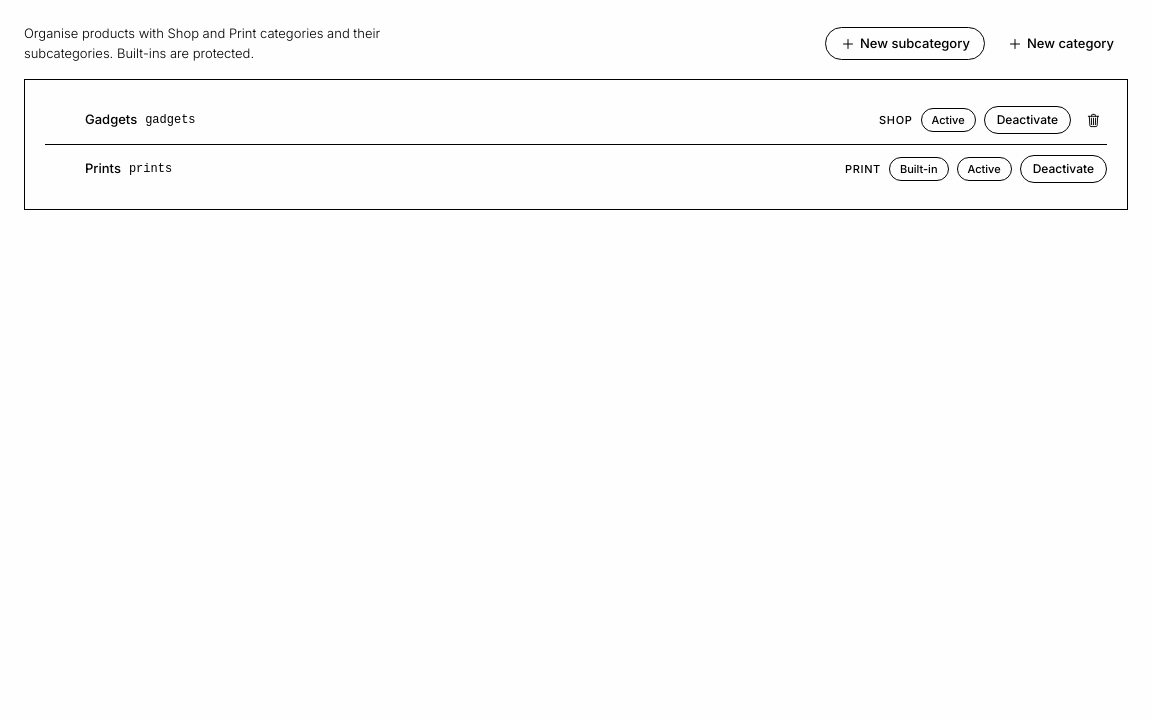
CategoryManagement — tree rows + ConfirmDialog delete › opens ONE sheet with the category/subcategory toggle
Check: the text "Gadgets" is shown, box x1=85 y1=110 x2=137 y2=130
Click the button "New category": (1060, 44) x1=993 y1=28 x2=1128 y2=59
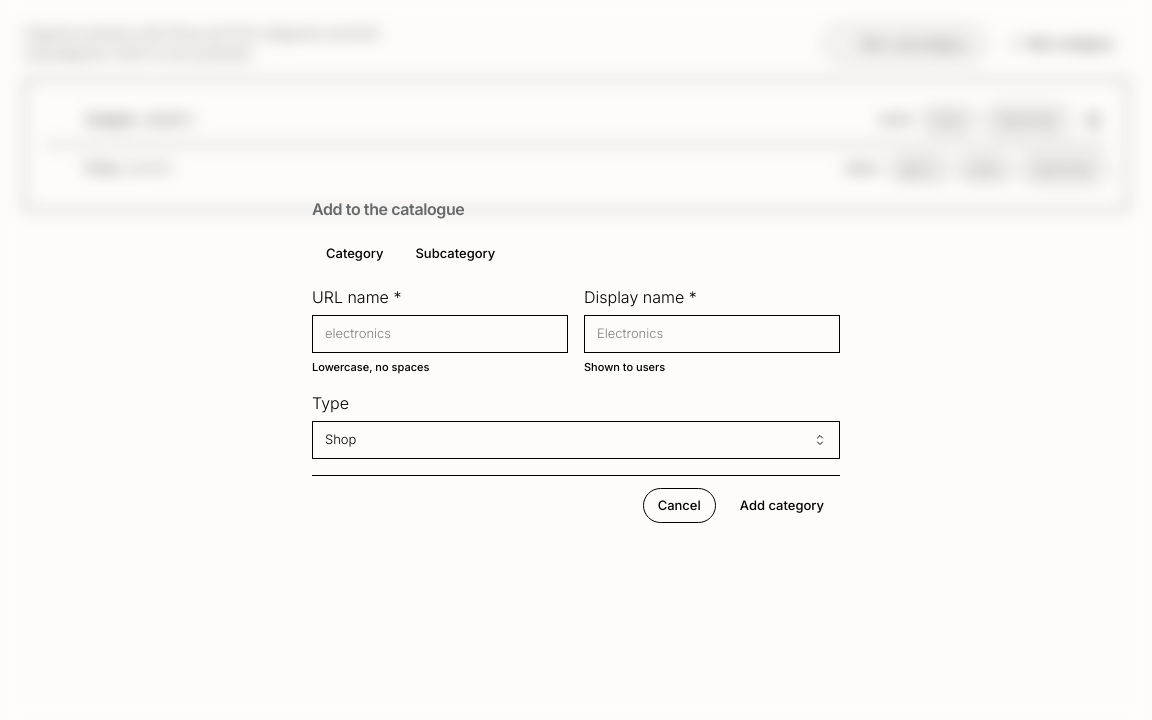
Check: the field labelled "URL name *" is shown, box x1=312 y1=315 x2=568 y2=352
Click the tab "Subcategory": (455, 253) x1=402 y1=237 x2=509 y2=269
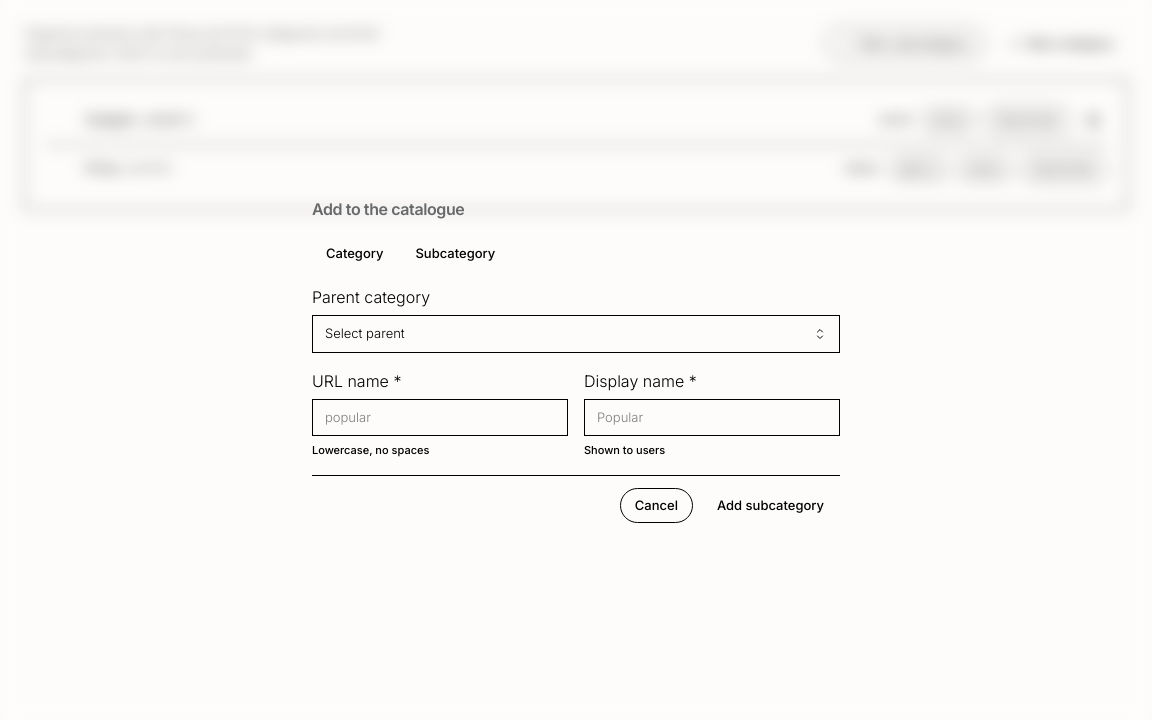
Check: the dropdown labelled "Parent category" is shown, box x1=312 y1=315 x2=840 y2=352
